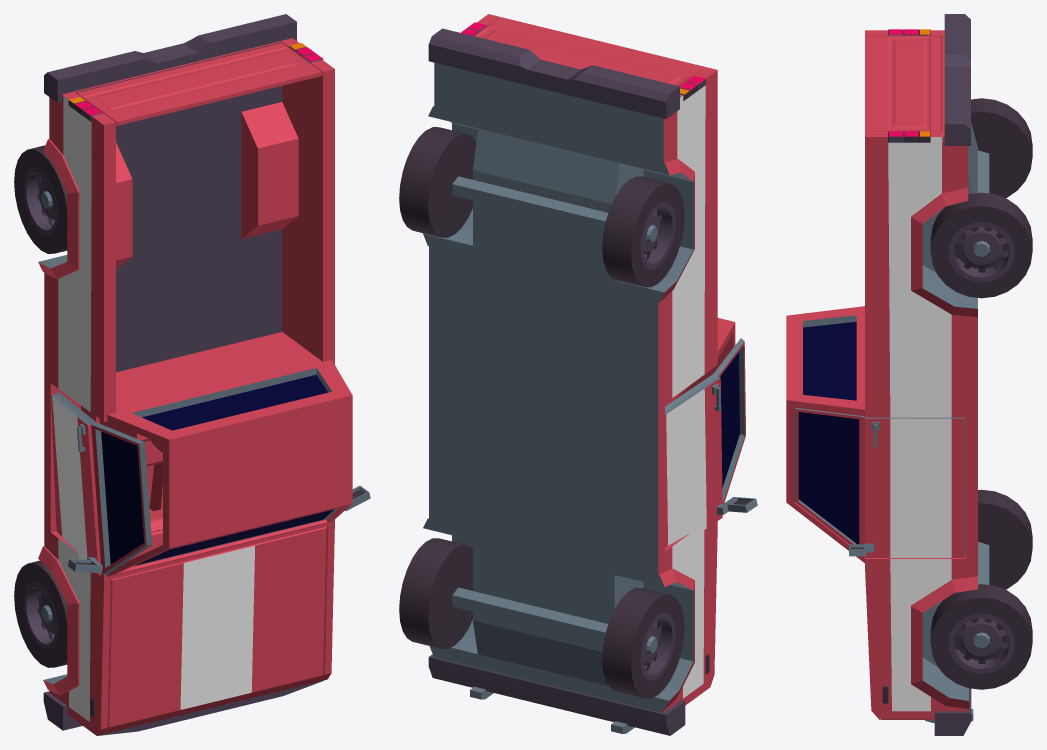
Rendered from 247_car_pickup.gltf.
3 views of the same model, side by side, from view 1: azimuth 30°, elevation 25°; view 2: azimuth 150°, elevation 25°; view 3: azimuth 270°, elevation 25° (orthographic). The views are drawn at different scales.
Visible parts, largest first — view 1: car_pickup; view 2: car_pickup; view 3: car_pickup.
Part boxes in pixels (<box>): car_pickup: <box>14,14,370,735</box>; car_pickup: <box>399,14,757,735</box>; car_pickup: <box>786,14,1032,735</box>.
Size of the model in its own units: 2.34 by 5 by 1.8.
1 material, 1 textured.
